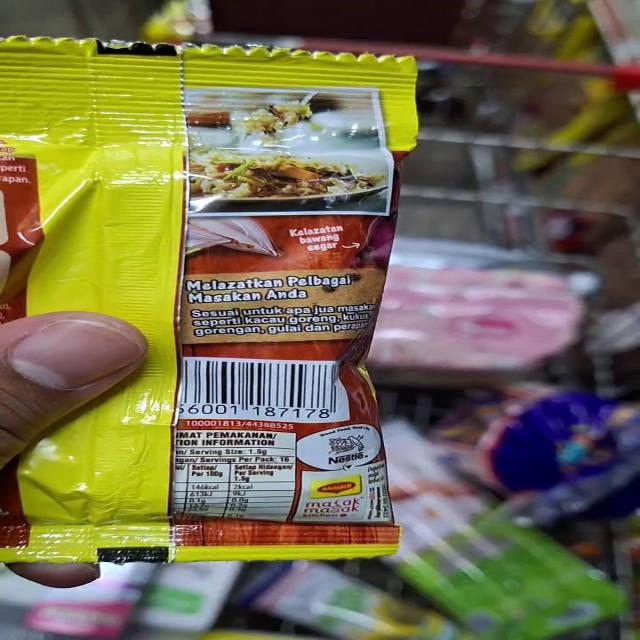Maggi Cukup Rasa: (0, 38, 404, 564)
